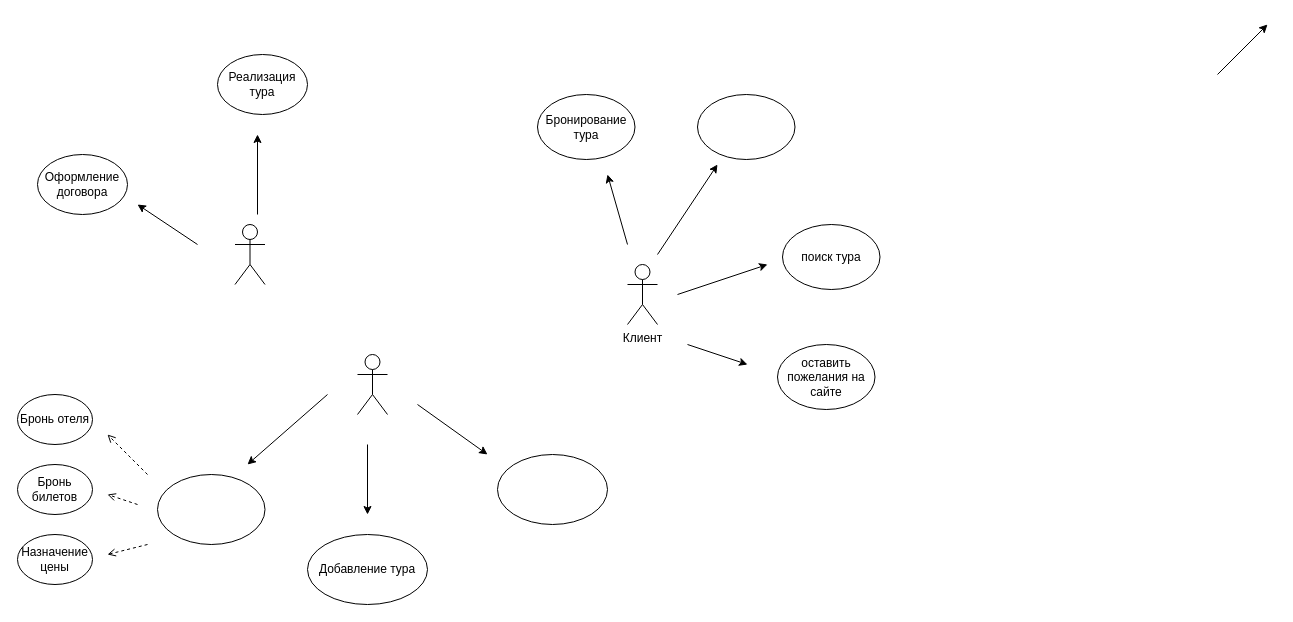
Image size: 1293x622. Some labels were removed from this diagram. Each missing label, with the centre of its shape:
Прогнозирование продаж: pixel 552 489
Просмотр информации о туре: pixel 745 127
Турагент: pixel 249 254
Туроператор: pixel 372 384
Формирование тура: pixel 210 509
